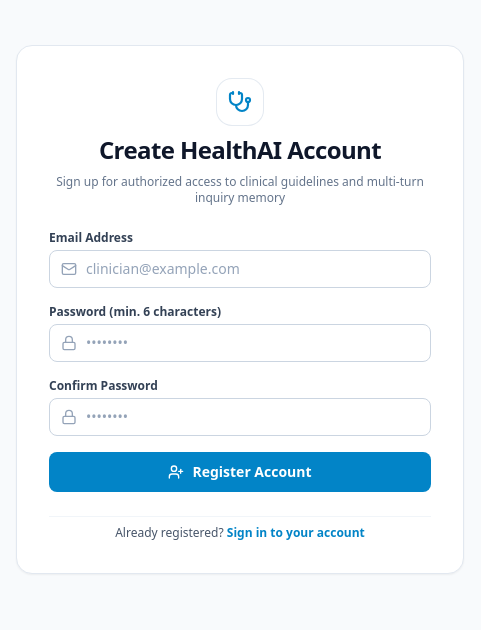
Authentication & Landing UX › validates password match on registration
Step 1. Type "newuser@example.com" into the field labelled "Email Address" → (240, 268), box [49,250,431,288]
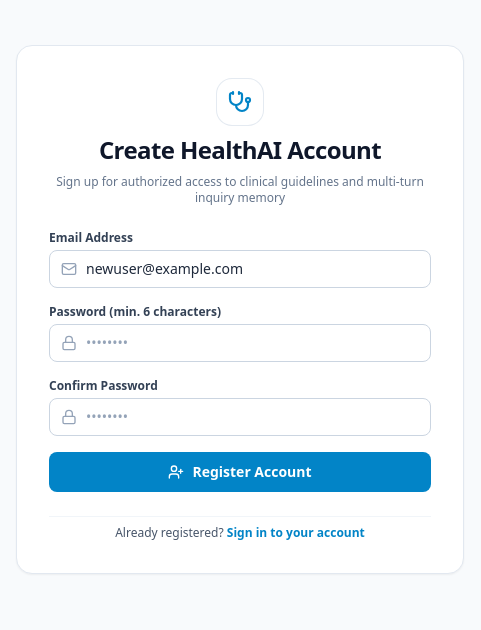
Step 2. Type "secret123" into the password field labelled "Password (min. 6 characters)" → (240, 342), box [49,324,431,362]
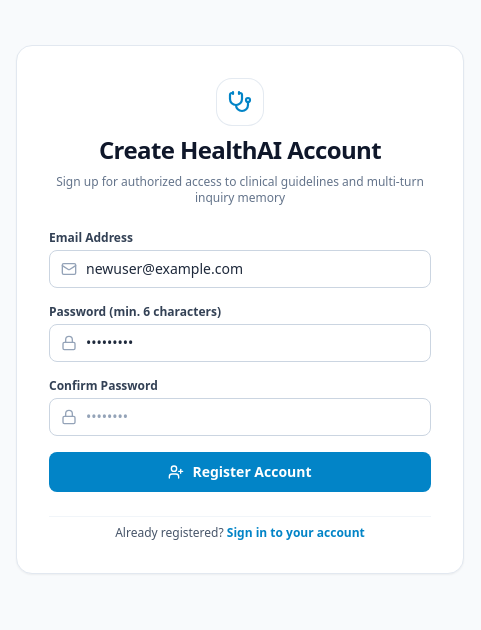
Step 3. Type "mismatch456" into the password field labelled "Confirm Password" → (240, 416), box [49,398,431,436]
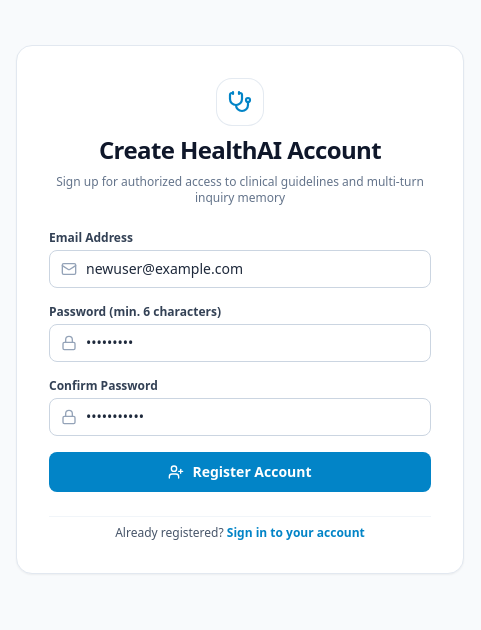
Step 4. Click the button "Register Account" → (240, 472), box [49,452,431,492]
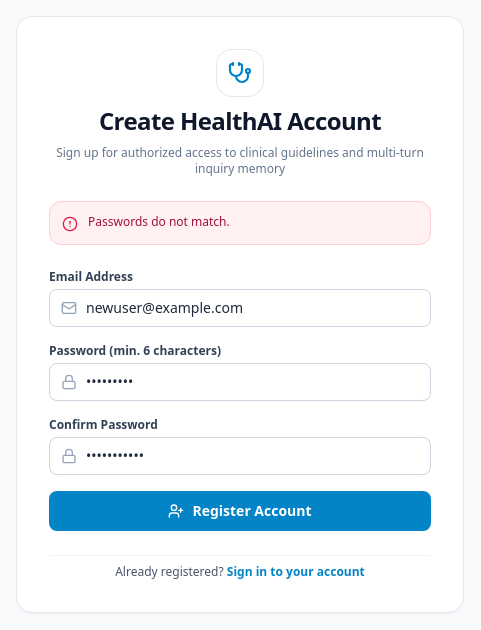
Expected: the text "Passwords do not match." is shown, [88,214,230,230]
